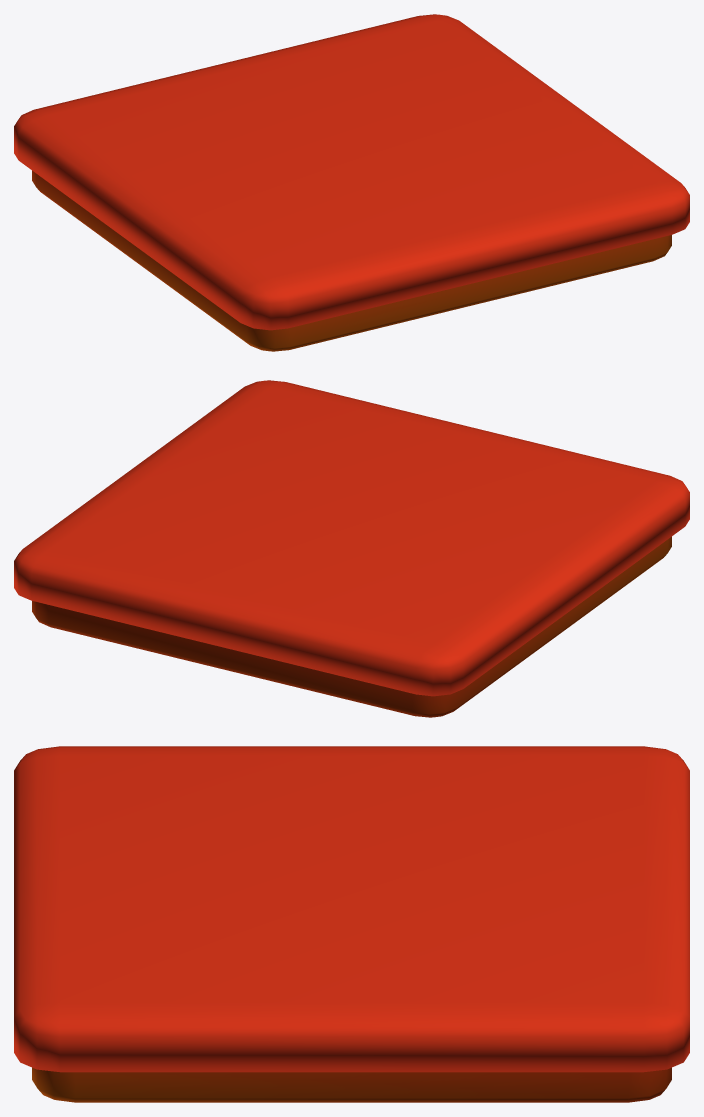
The model's file is trap_platfrombigred.glb.
3 views of the same model, one above another, from view 1: azimuth 30°, elevation 25°; view 2: azimuth 150°, elevation 25°; view 3: azimuth 270°, elevation 25° (orthographic). The views are drawn at different scales.
Parts seen in each view (by area): view 1: Cube.034_visual; view 2: Cube.034_visual; view 3: Cube.034_visual.
Boxes of the visible parts, x1,y1,x2,y2 form: Cube.034_visual: [14, 14, 689, 351]; Cube.034_visual: [14, 380, 689, 717]; Cube.034_visual: [14, 746, 689, 1102].
Size of what is drawn, in the model's own units: 3.98 by 0.634 by 3.98.
Materials: 1 (1 with a texture image).
